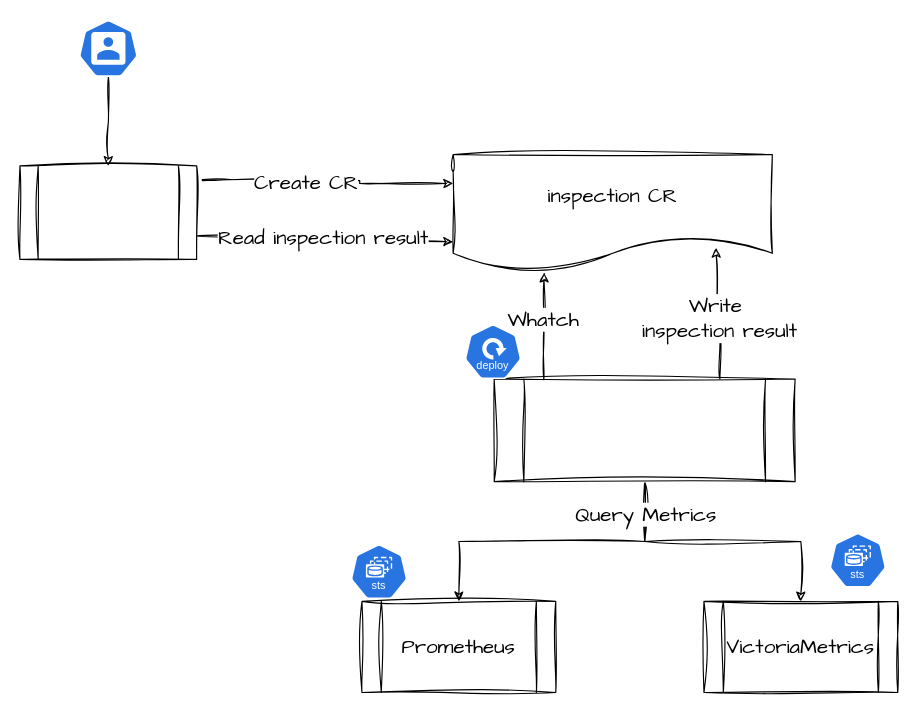
Some shapes in this 918 by 713 pixel diagram are drawn without their labels. Here are the shapes that lost their labels. From the top down, the box of each, then its label:
(19, 165, 197, 259): UI
(493, 378, 795, 482): Couier
